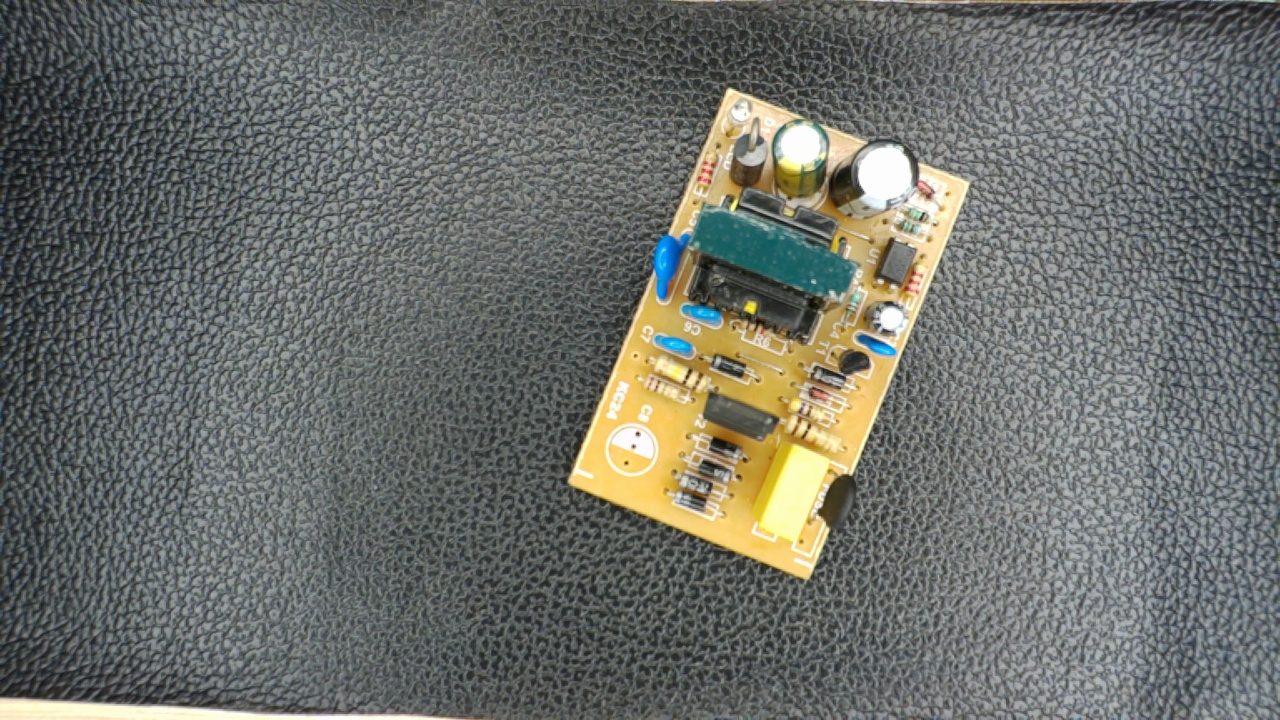fuse: (813, 465, 860, 539)
mov: (648, 221, 699, 303)
optocoupler: (872, 230, 918, 297)
